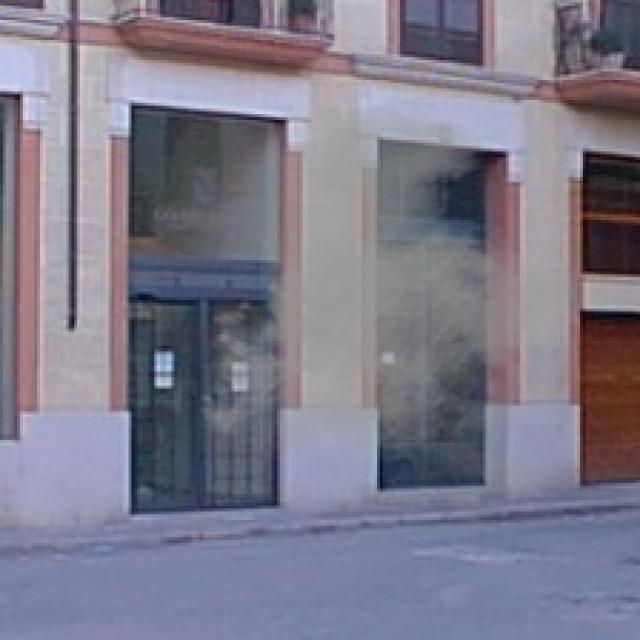smoke: (186, 94, 600, 489)
